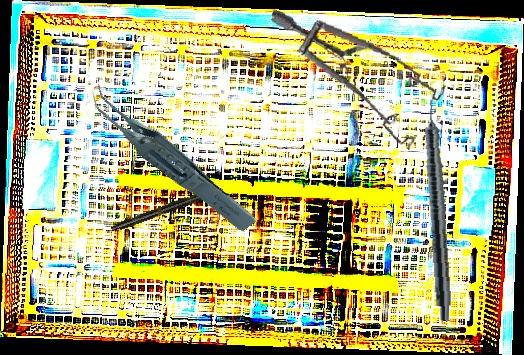Handpiece: (420, 89, 458, 322), (109, 184, 225, 234)
Speculum: (257, 9, 453, 154)
Tissue Forceps: (85, 54, 259, 259)
